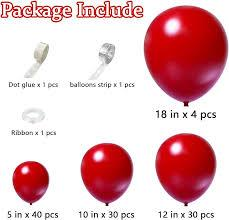red: (143, 5, 227, 106), (153, 132, 218, 206), (79, 142, 134, 205), (12, 161, 51, 205)
